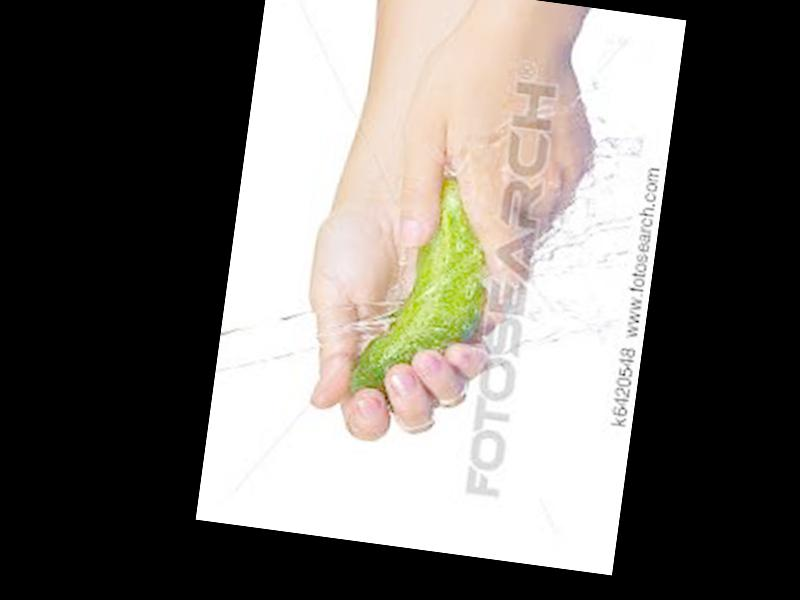Cucumber: (347, 160, 506, 412)
